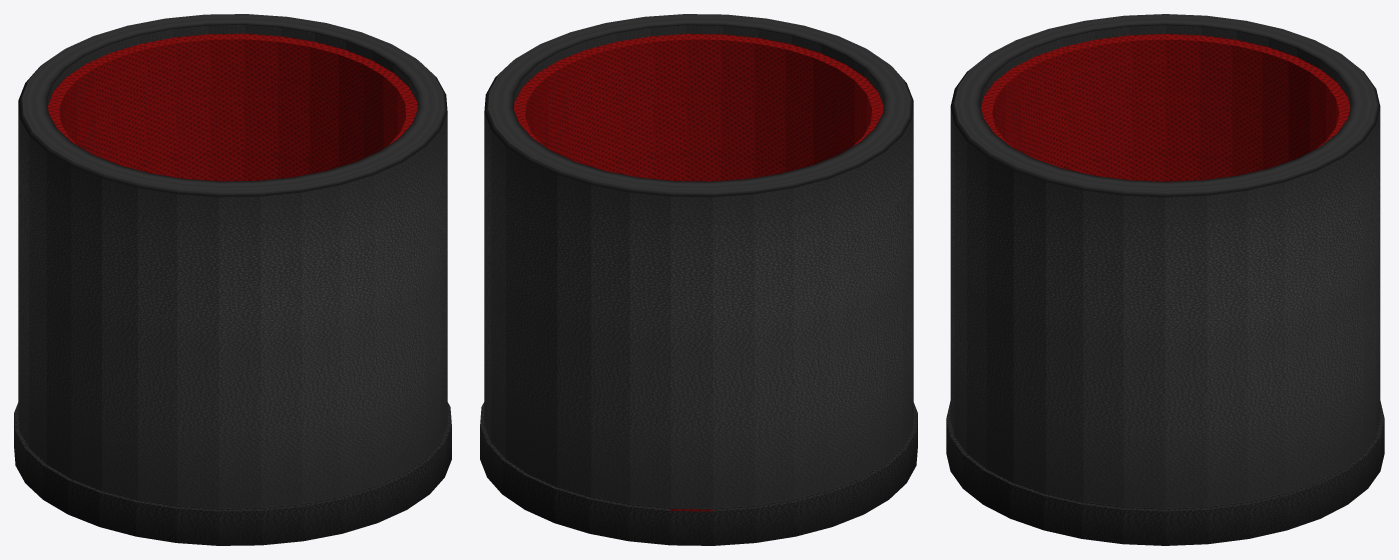
The model's file is 수정본)컵.fbx.
The picture shows the model from 3 angles, left to right: view 1: azimuth 30°, elevation 25°; view 2: azimuth 150°, elevation 25°; view 3: azimuth 270°, elevation 25°; orthographic projection.
Parts seen in each view (by area): view 1: 컵; view 2: 컵; view 3: 컵.
Boxes of the visible parts, <box> form: 컵: <box>14,14,451,545</box>; 컵: <box>480,14,917,545</box>; 컵: <box>946,14,1384,545</box>.
Bounding box in the file's own units: 142 × 125 × 142.
